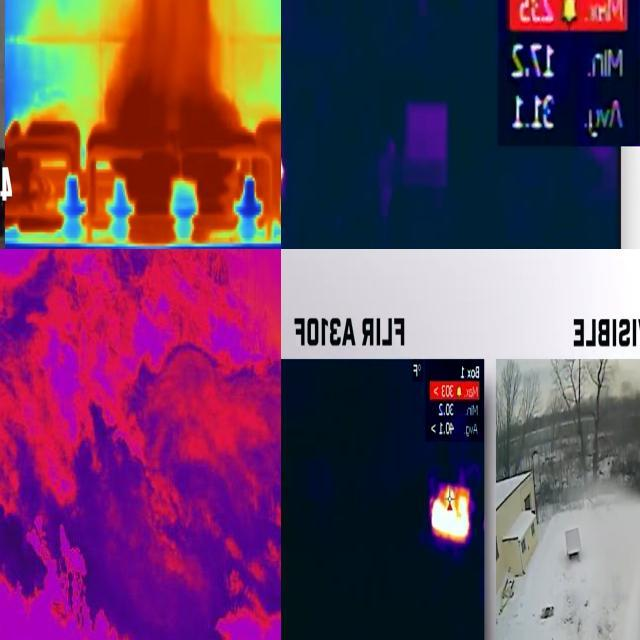fire: (99, 78, 241, 221), (430, 484, 471, 544)
